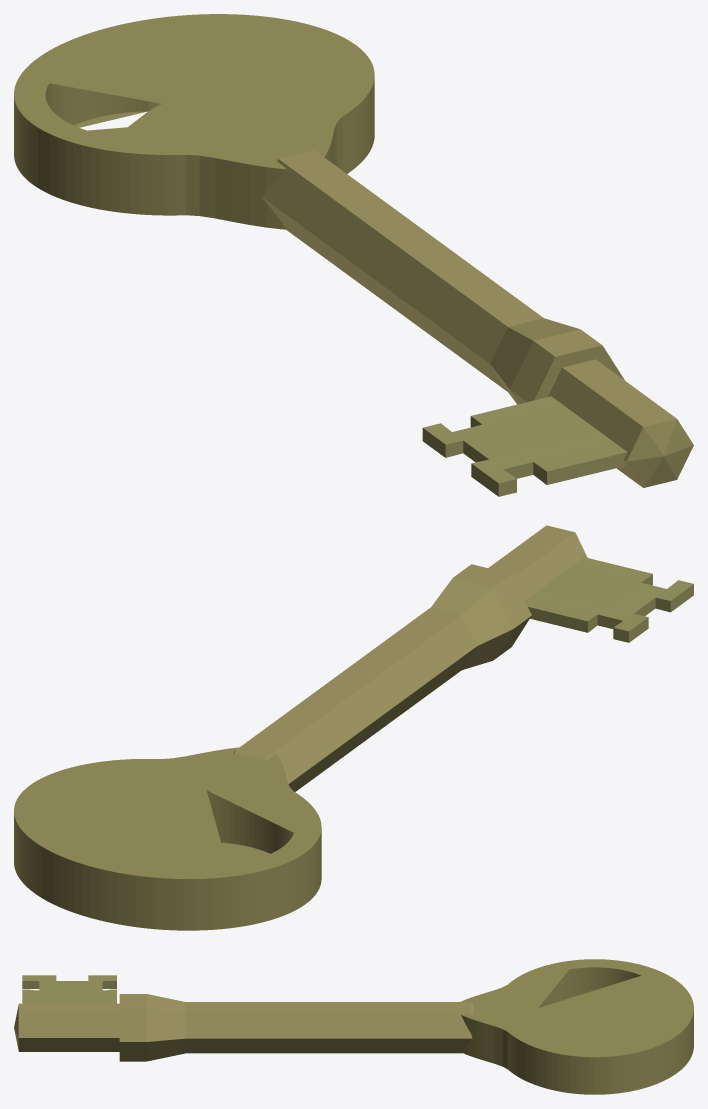
Rendered from Key.fbx.
3 renders of one model, top to bottom at view 1: azimuth 30°, elevation 25°; view 2: azimuth 150°, elevation 25°; view 3: azimuth 270°, elevation 25°, orthographic. The views are drawn at different scales.
Parts seen in each view (by area): view 1: Cylinder, Cylinder.002, Cube; view 2: Cylinder, Cylinder.002, Cube; view 3: Cylinder, Cylinder.002, Cube.
Part boxes in pixels (x1,y1,x2,y2): Cylinder: [14, 14, 374, 229]; Cylinder.002: [261, 150, 693, 487]; Cube: [422, 396, 627, 496]; Cylinder: [14, 747, 321, 930]; Cylinder.002: [234, 525, 587, 791]; Cube: [525, 557, 693, 642]; Cylinder: [460, 959, 693, 1094]; Cylinder.002: [14, 994, 473, 1061]; Cube: [22, 975, 116, 1003].
Size of the model in its own units: 330 by 83.55 by 968.
